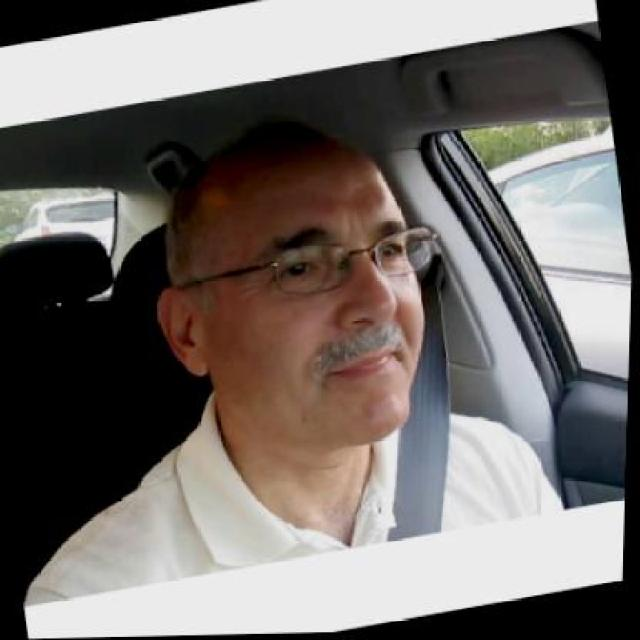attentif: (128, 95, 474, 476)
